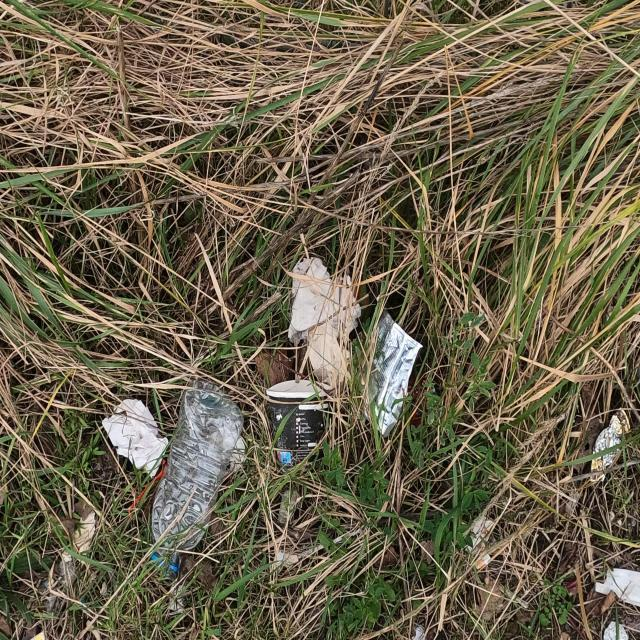Cup: (268, 368, 336, 491)
